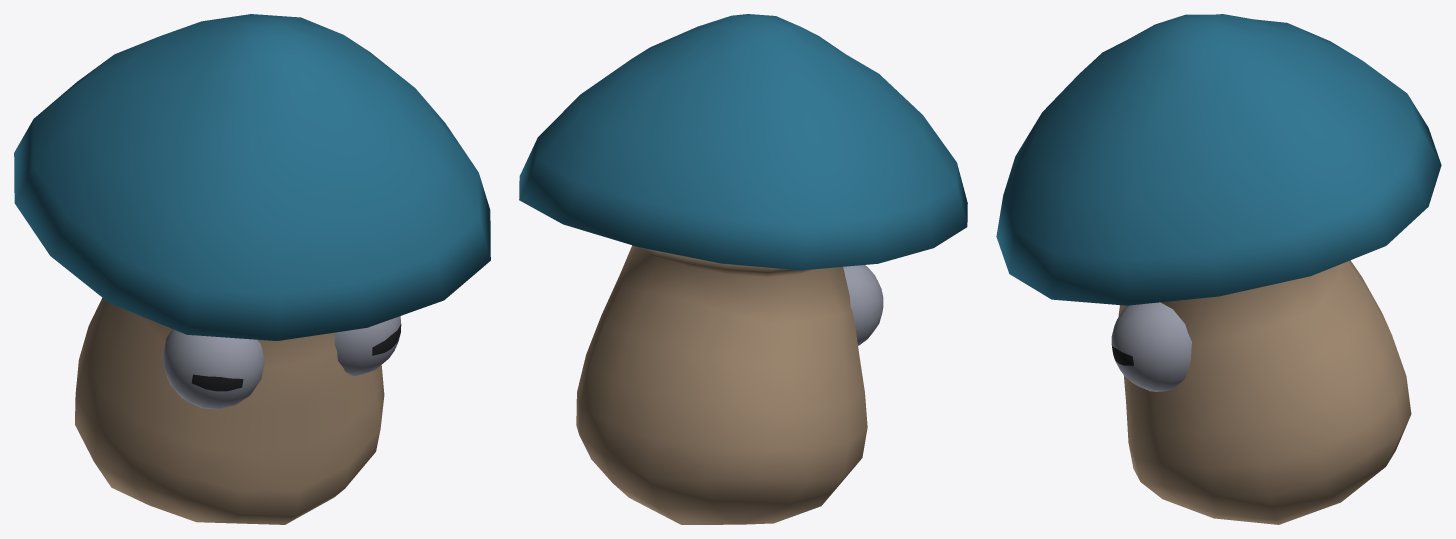
The model's file is mushnub.glb.
3 views of the same model, side by side, from view 1: azimuth 30°, elevation 25°; view 2: azimuth 150°, elevation 25°; view 3: azimuth 270°, elevation 25° (orthographic). The views are drawn at different scales.
Parts seen in each view (by area): view 1: Mushnub_Blob; view 2: Mushnub_Blob; view 3: Mushnub_Blob.
Part boxes in pixels (<box>): Mushnub_Blob: <box>14,14,490,524</box>; Mushnub_Blob: <box>519,14,967,524</box>; Mushnub_Blob: <box>996,14,1441,524</box>.
Size of the model in its own units: 2.75 by 3.26 by 2.71.
1 material, 1 textured.
